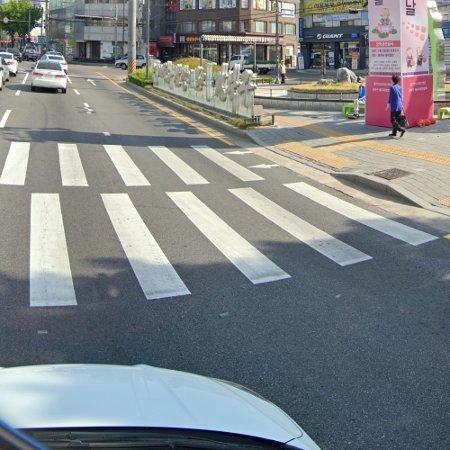crosswalks: (2, 138, 269, 189)
